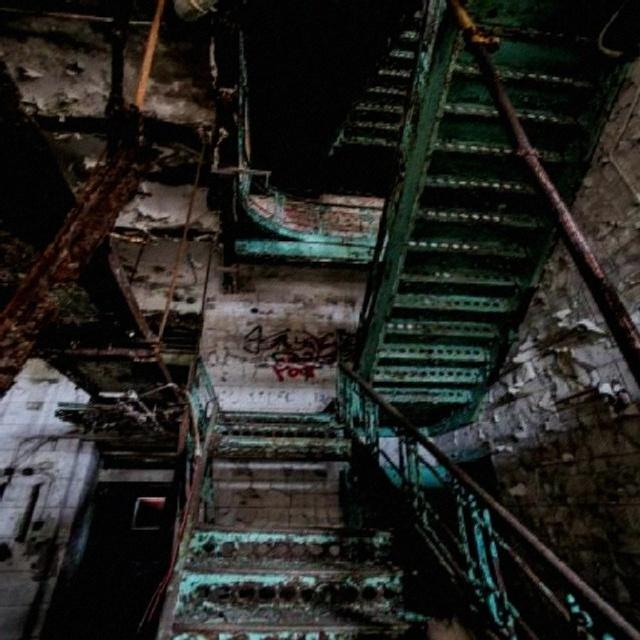stair: (340, 0, 640, 417)
